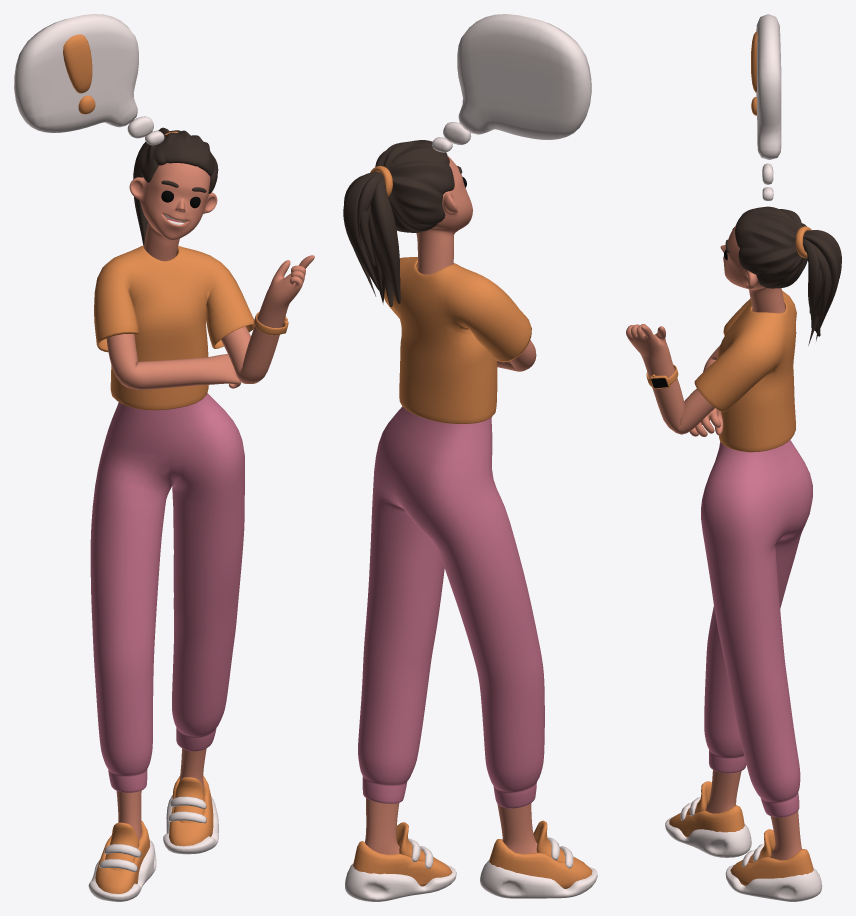
The model's file is icons8_woman_with_speech_bubble.fbx.
3 views of the same model, side by side, from view 1: azimuth 30°, elevation 25°; view 2: azimuth 150°, elevation 25°; view 3: azimuth 270°, elevation 25° (orthographic). The views are drawn at different scales.
Parts seen in each view (by area): view 1: icons8_woman_with_speech_bubble; view 2: icons8_woman_with_speech_bubble; view 3: icons8_woman_with_speech_bubble.
Part boxes in pixels (<box>): icons8_woman_with_speech_bubble: <box>14,14,314,901</box>; icons8_woman_with_speech_bubble: <box>343,14,597,901</box>; icons8_woman_with_speech_bubble: <box>626,14,841,901</box>.
Bounding box in the file's own units: 113 × 391 × 94.19.
Materials: 2 (2 with a texture image).
